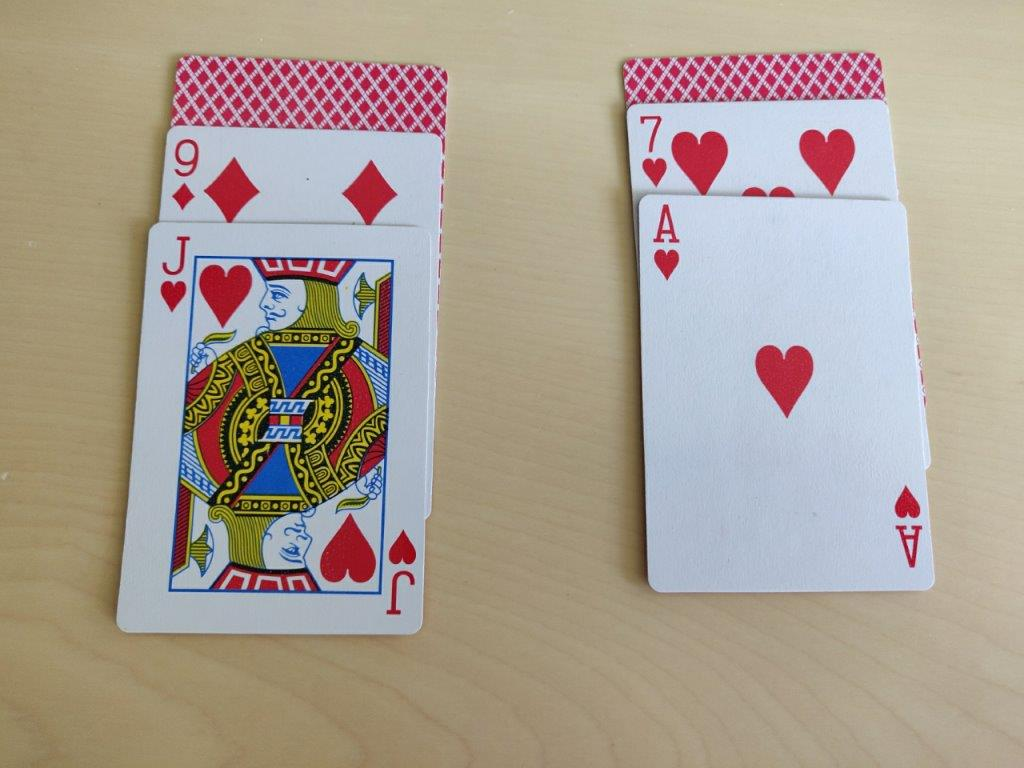7H: (633, 109, 673, 193)
9D: (167, 135, 202, 216)
AH: (646, 202, 689, 289)
BACK: (166, 49, 449, 139), (621, 48, 886, 98)
JH: (155, 234, 194, 326)
